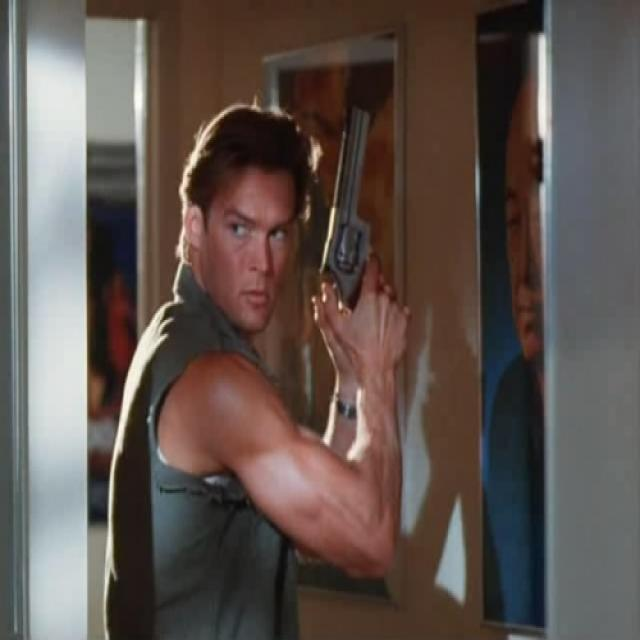weapons: (322, 92, 402, 367)
